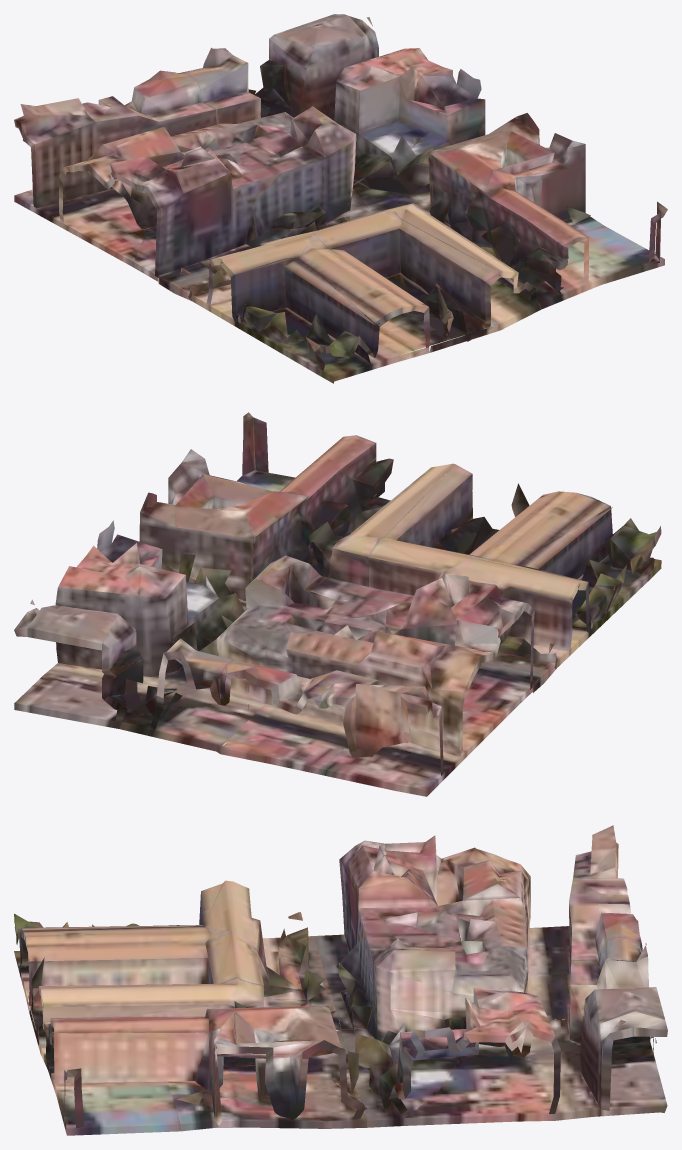
3 views of the same model, one above another, from view 1: azimuth 30°, elevation 25°; view 2: azimuth 150°, elevation 25°; view 3: azimuth 270°, elevation 25° (orthographic). The views are drawn at different scales.
Parts seen in each view (by area): view 1: Mesh_0; view 2: Mesh_0; view 3: Mesh_0.
Boxes of the visible parts, <box> form: Mesh_0: <box>14,14,667,383</box>; Mesh_0: <box>14,412,661,796</box>; Mesh_0: <box>14,825,667,1135</box>.
Bounding box in the file's own units: 134 × 34.22 × 165.
1 material, 1 textured.
